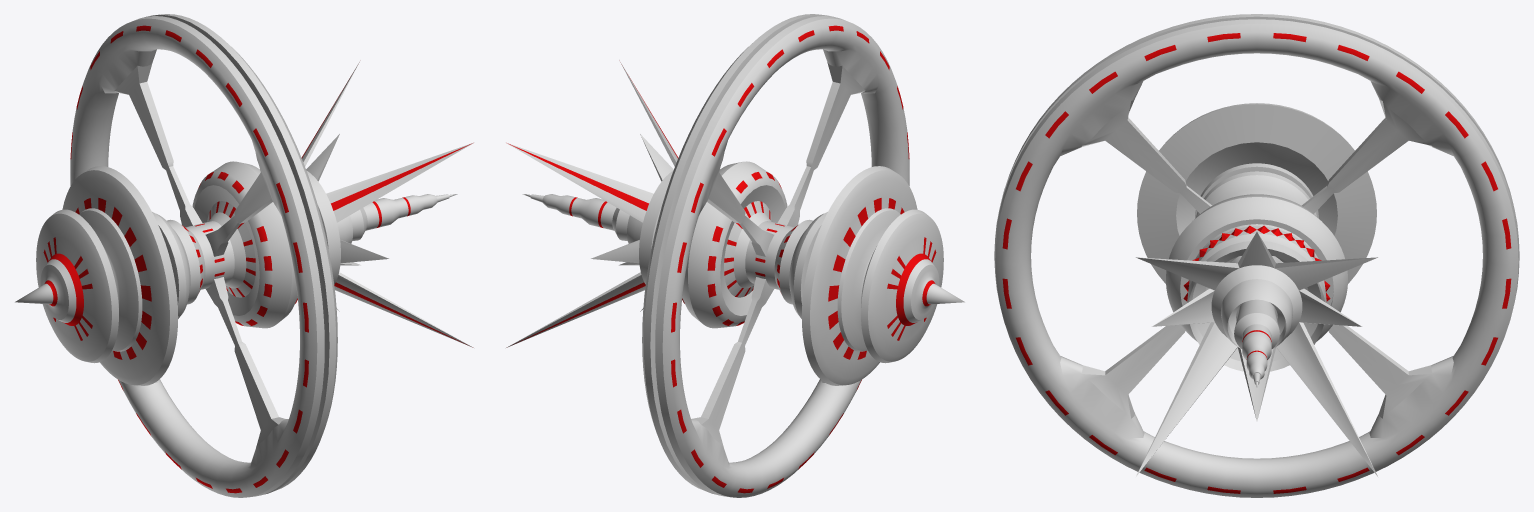
The model's file is Terminal2.fbx.
3 renders of one model, left to right at view 1: azimuth 30°, elevation 25°; view 2: azimuth 150°, elevation 25°; view 3: azimuth 270°, elevation 25°, orthographic. The views are drawn at different scales.
Parts seen in each view (by area): view 1: Terminal2; view 2: Terminal2; view 3: Terminal2.
Part boxes in pixels (x1,y1,x2,y2): Terminal2: (15,14,474,497); Terminal2: (505,14,964,497); Terminal2: (994,14,1519,497).
Bounding box in the file's own units: 71.9 × 69.13 × 69.13.
